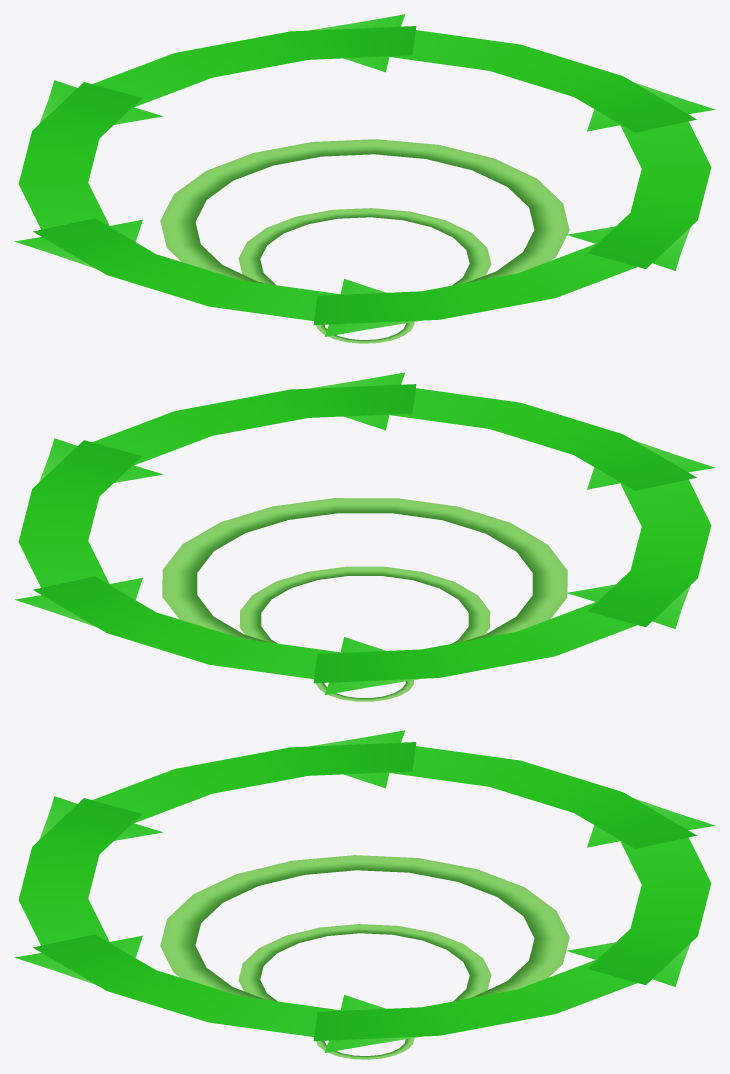
The model's file is arrowAnimation02.fbx.
3 renders of one model, top to bottom at view 1: azimuth 30°, elevation 25°; view 2: azimuth 150°, elevation 25°; view 3: azimuth 270°, elevation 25°, orthographic.
Visible parts, largest first — view 1: frame1, frame2, Circle, frame3, frame4, frame6, frame5; view 2: frame1, frame2, Circle, frame4, frame3, frame6, frame5; view 3: frame2, frame1, frame3, Circle, frame6, frame4, frame5.
Boxes of the visible parts, x1,y1,x2,y2 form: frame1: (14,14,696,325); frame2: (33,26,715,336); Circle: (160,139,569,343); frame3: (23,45,690,323); frame4: (33,26,707,334); frame6: (35,26,711,332); frame5: (310,14,695,324); frame1: (15,372,696,682); frame2: (34,384,715,694); Circle: (162,498,567,701); frame4: (35,384,711,694); frame3: (19,373,695,683); frame6: (33,386,714,680); frame5: (15,373,694,623); frame2: (33,742,715,1051); frame1: (14,730,696,1040); frame3: (15,730,696,1040); Circle: (160,855,569,1059); frame6: (35,742,709,1048); frame4: (41,742,708,1052); frame5: (20,739,688,1040).
Size of the model in its own units: 0.0329 by 0.007 by 0.0303.
